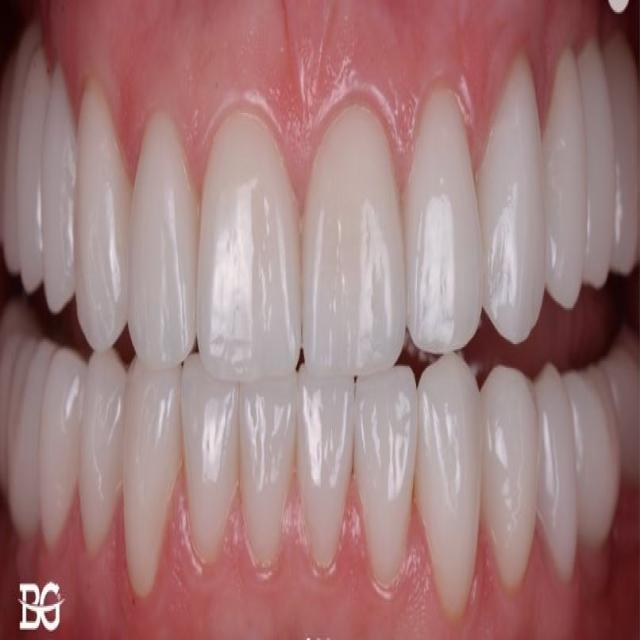1st Molar: (0, 15, 40, 269), (565, 370, 620, 551), (604, 32, 640, 278), (7, 344, 51, 536)
1st Premolar: (482, 365, 538, 590), (545, 50, 587, 310), (79, 353, 126, 554), (41, 70, 75, 315)
2nd Molar: (0, 299, 38, 498), (605, 331, 640, 488)
2nd Premolar: (534, 366, 579, 589), (38, 350, 83, 548), (581, 44, 614, 289), (16, 53, 46, 291)
Canine: (475, 55, 546, 344), (419, 356, 484, 619), (74, 84, 131, 351), (125, 361, 185, 602)
Central Incisor: (303, 105, 408, 380), (199, 111, 302, 383), (296, 369, 356, 575), (239, 380, 297, 578)
Lateral Incisor: (405, 86, 484, 356), (128, 113, 198, 364), (354, 369, 420, 594), (183, 354, 238, 572)
